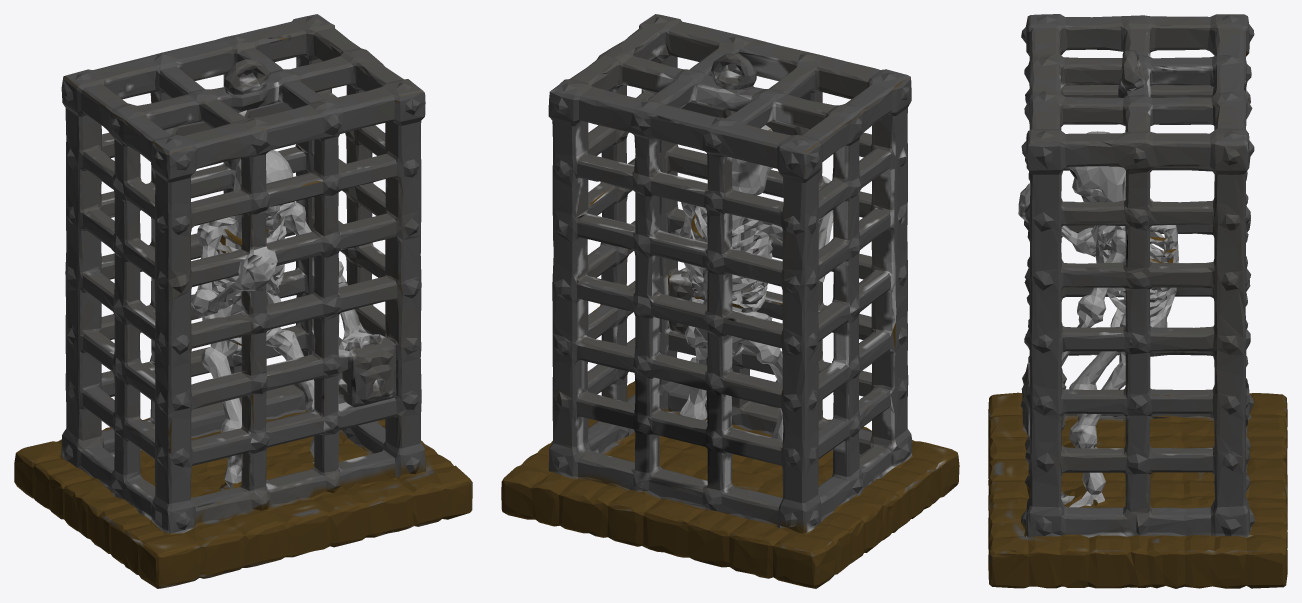
Rendered from jaula_esqueleto.glb.
3 views of the same model, side by side, from view 1: azimuth 30°, elevation 25°; view 2: azimuth 150°, elevation 25°; view 3: azimuth 270°, elevation 25° (orthographic). The views are drawn at different scales.
Visible parts, largest first — view 1: tmp4qd6p7zm.ply; view 2: tmp4qd6p7zm.ply; view 3: tmp4qd6p7zm.ply.
Boxes of the visible parts, box(x1,y1,x2,y2) form: tmp4qd6p7zm.ply: box(14, 14, 472, 588); tmp4qd6p7zm.ply: box(501, 14, 959, 588); tmp4qd6p7zm.ply: box(988, 14, 1287, 588).
Bounding box in the file's own units: 1.47 × 1.97 × 1.16.
Materials: 1 (1 with a texture image).
